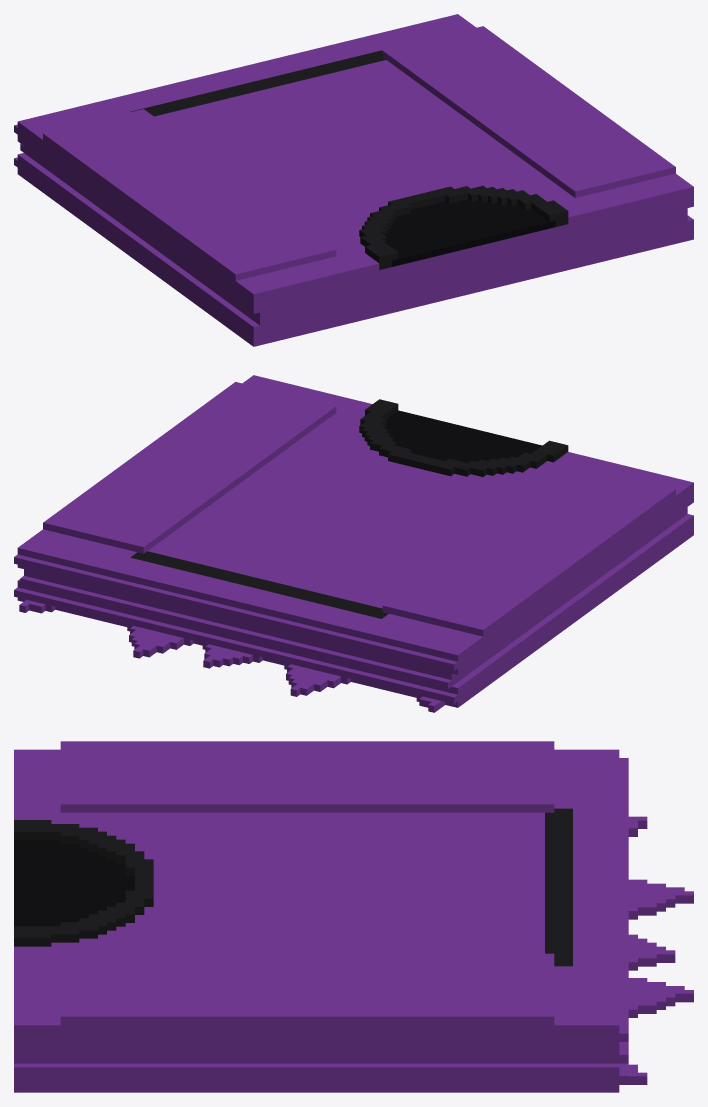
The model's file is witch_dress_short.glb.
3 views of the same model, one above another, from view 1: azimuth 30°, elevation 25°; view 2: azimuth 150°, elevation 25°; view 3: azimuth 270°, elevation 25° (orthographic). The views are drawn at different scales.
Parts seen in each view (by area): view 1: witch_dress_short:compound; view 2: witch_dress_short:compound; view 3: witch_dress_short:compound.
Part boxes in pixels (<box>): witch_dress_short:compound: <box>14,14,693,346</box>; witch_dress_short:compound: <box>14,375,693,712</box>; witch_dress_short:compound: <box>14,741,693,1092</box>.
Size of the model in its own units: 0.28 by 0.036 by 0.292.
